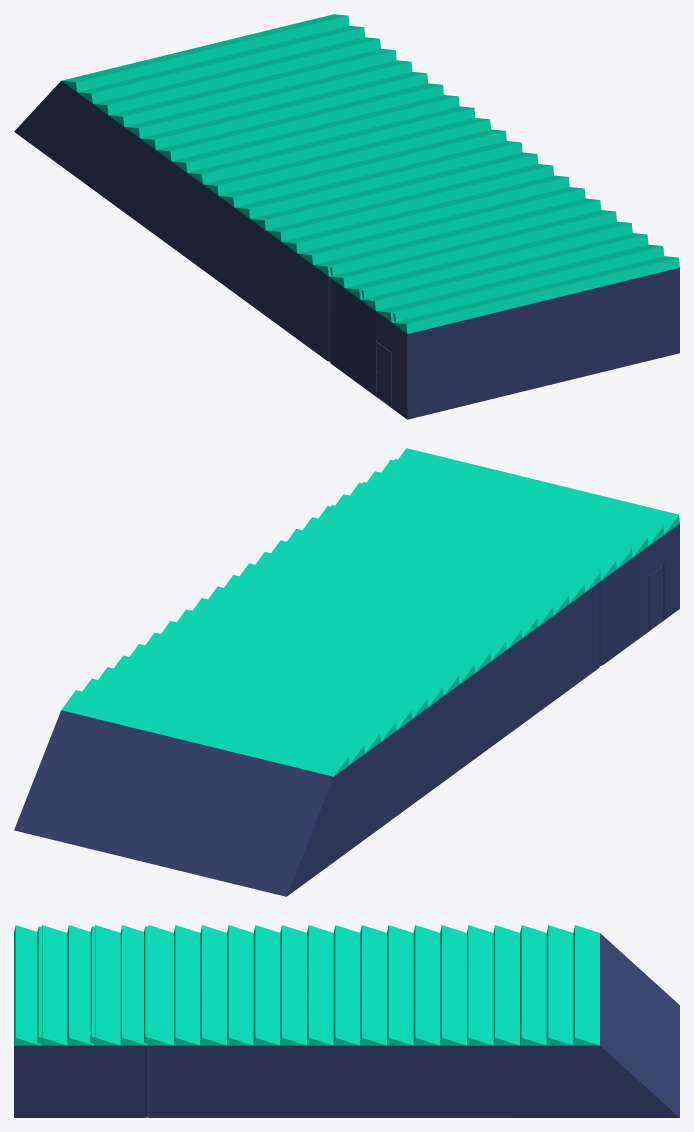
File: Shooting range 2.fbx
The picture shows the model from 3 angles, top to bottom: view 1: azimuth 30°, elevation 25°; view 2: azimuth 150°, elevation 25°; view 3: azimuth 270°, elevation 25°; orthographic projection. The views are drawn at different scales.
Visible parts, largest first — view 1: roof, left_wall, back_wall; view 2: roof, front_wall, left_wall; view 3: roof, right_wall, front_wall.
Boxes of the visible parts, bbox=[...] form: roof: bbox=[61, 14, 679, 333]; left_wall: bbox=[14, 81, 407, 419]; back_wall: bbox=[407, 267, 679, 419]; roof: bbox=[61, 448, 679, 776]; front_wall: bbox=[14, 710, 333, 896]; left_wall: bbox=[287, 523, 679, 896]; roof: bbox=[14, 925, 599, 1045]; right_wall: bbox=[14, 1045, 679, 1117]; front_wall: bbox=[600, 933, 679, 1117].
Bounding box in the file's own units: 1003 × 335 × 2500.
